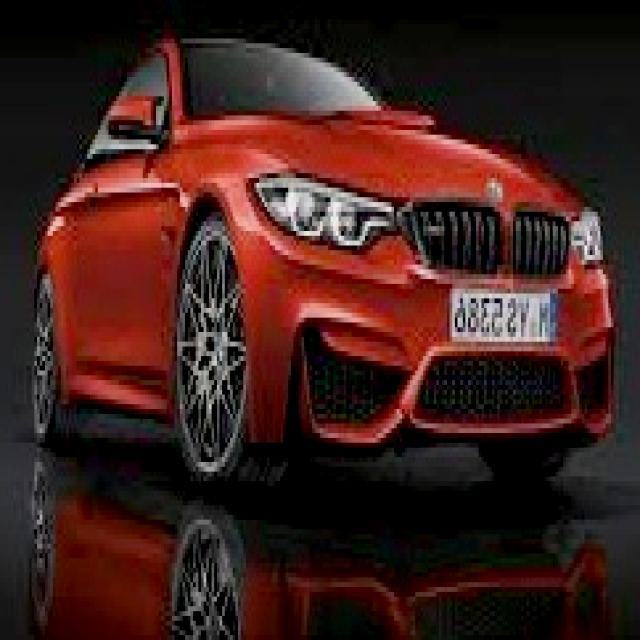red: (0, 34, 618, 482)
